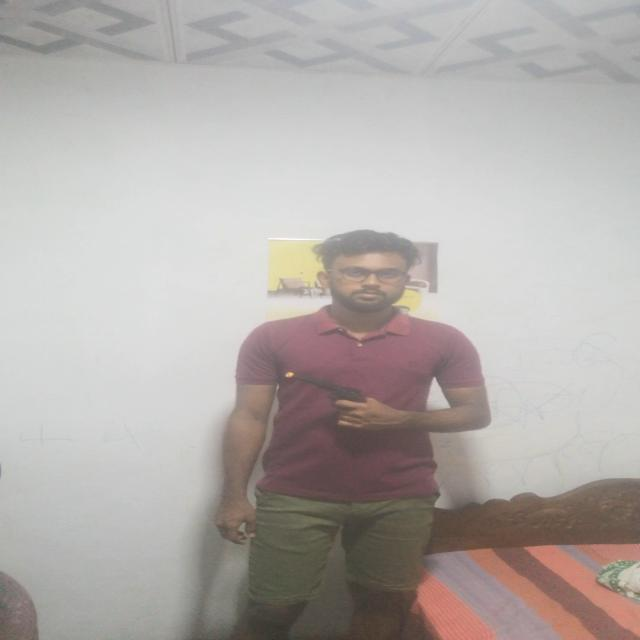Gun_Holder: (280, 367, 387, 441)
Person: (209, 224, 496, 640)
